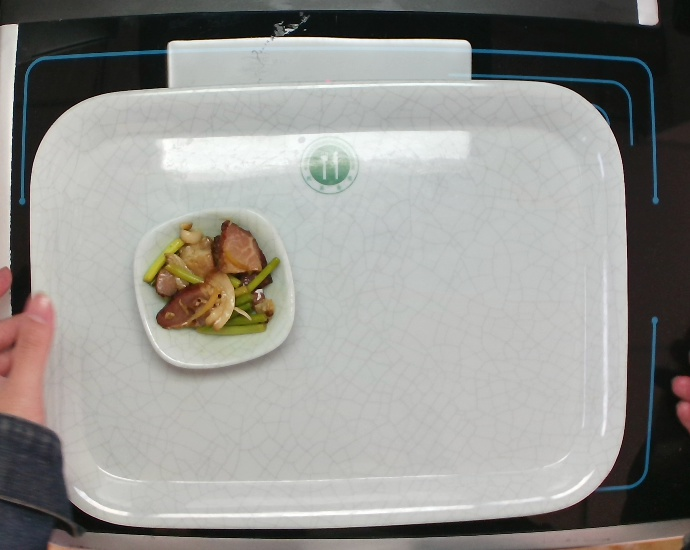JYsf-Si_Fang_Die: (130, 203, 297, 371)
